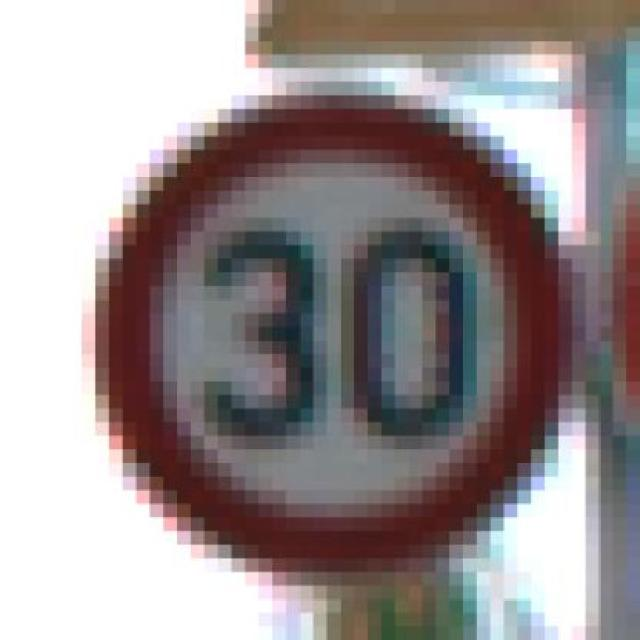Speed Limit 30 KMPh: (54, 68, 586, 572)
